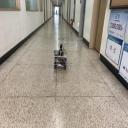cart: (54, 52, 68, 70)
